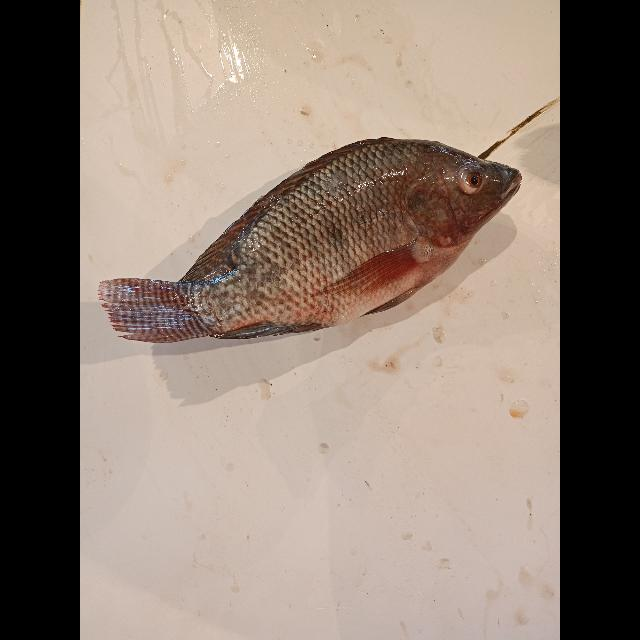Tilapia: (99, 135, 524, 343)
